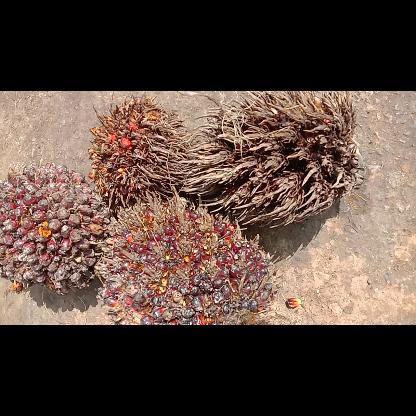Janjang kosong: (184, 92, 362, 226)
Kurang masak: (0, 168, 108, 290)
TBS masak: (101, 198, 280, 324)
Terlalu masak: (88, 92, 192, 199)
